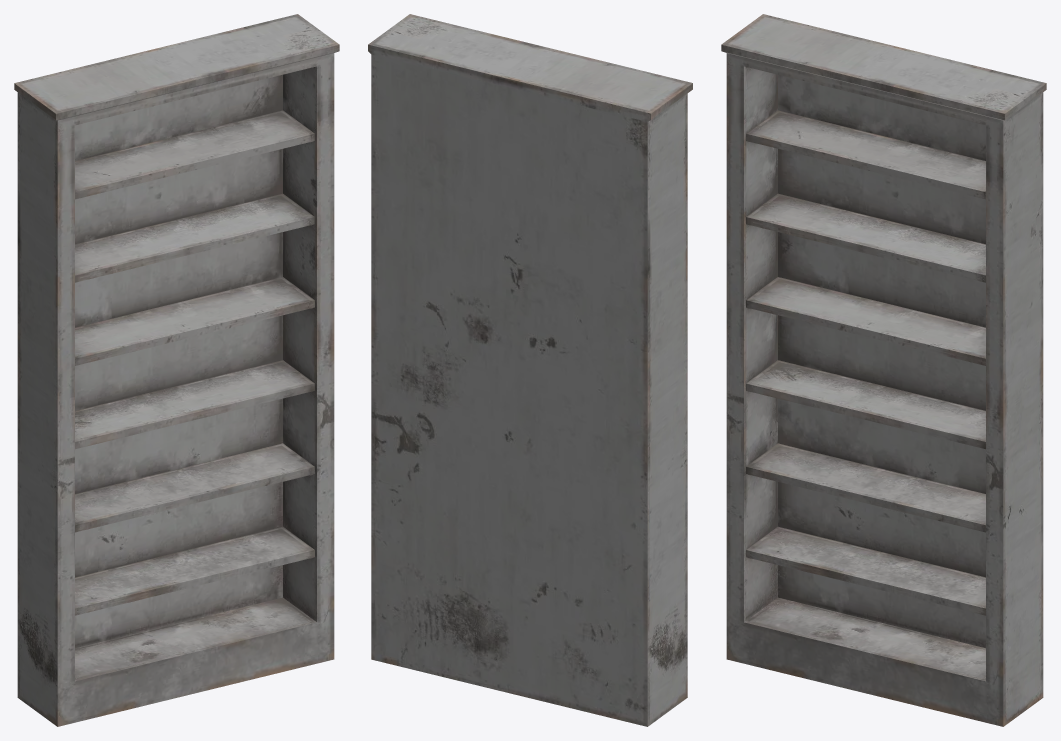
The model's file is ph-Shelf_01.glb.
3 renders of one model, left to right at view 1: azimuth 30°, elevation 25°; view 2: azimuth 150°, elevation 25°; view 3: azimuth 330°, elevation 25°, orthographic.
Visible parts, largest first — view 1: Shelf_01; view 2: Shelf_01; view 3: Shelf_01.
Part boxes in pixels (left/top/right/bottom): Shelf_01: left=14, top=14, right=339, bottom=726; Shelf_01: left=368, top=14, right=692, bottom=726; Shelf_01: left=721, top=14, right=1046, bottom=726.
Bounding box in the file's own units: 0.4823 × 1 × 0.1235.
1 material, 1 textured.
